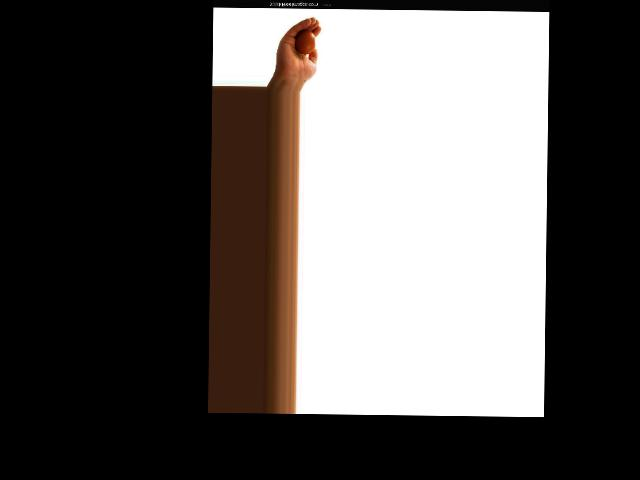egg: (295, 28, 315, 54)
